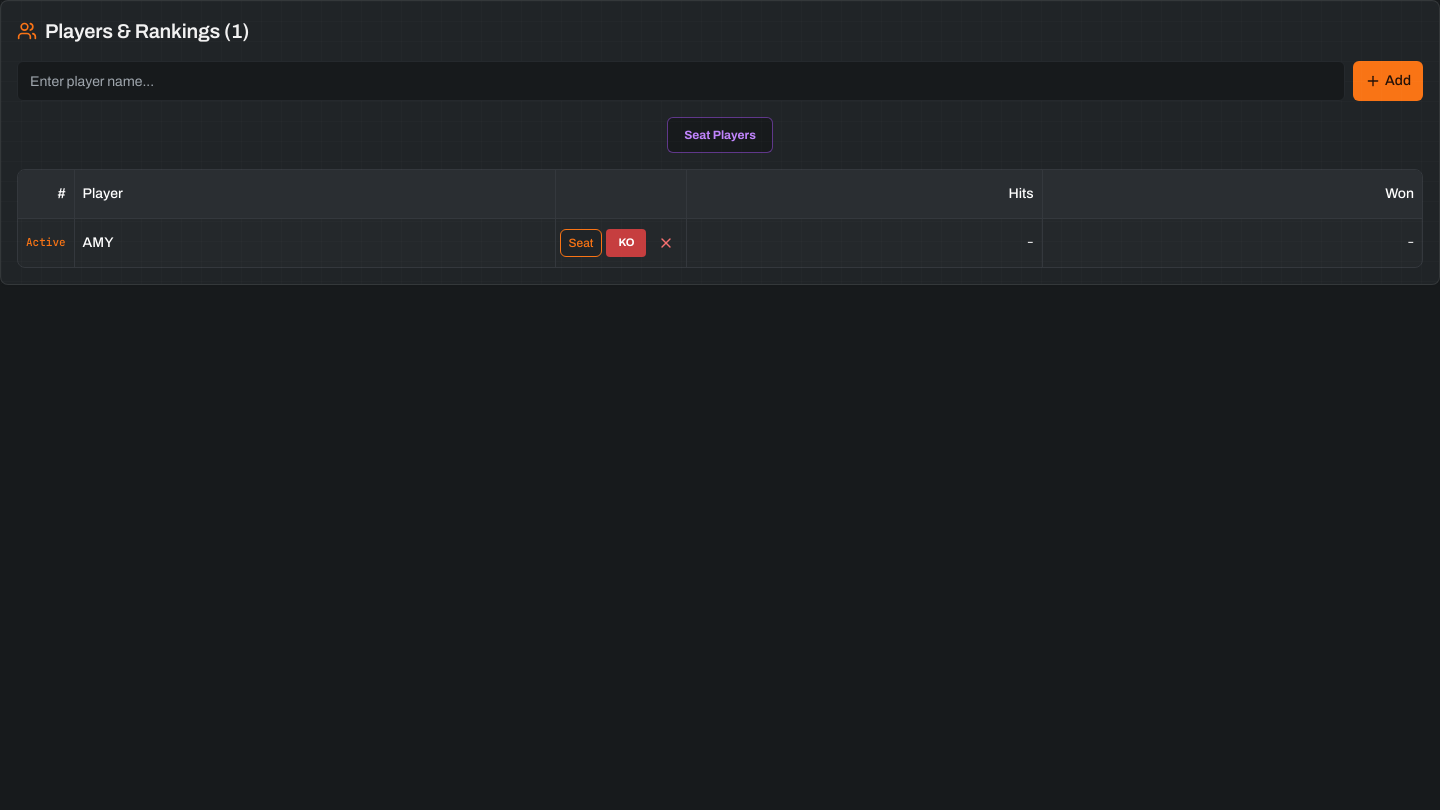
Scenario: PlayerSection › warns once late entry has closed, and adds only on confirm
Later steps or results of the test are not shown.
Type "Late" into the field with placeholder "Enter player name..." at (681, 81), box [17, 61, 1345, 101]
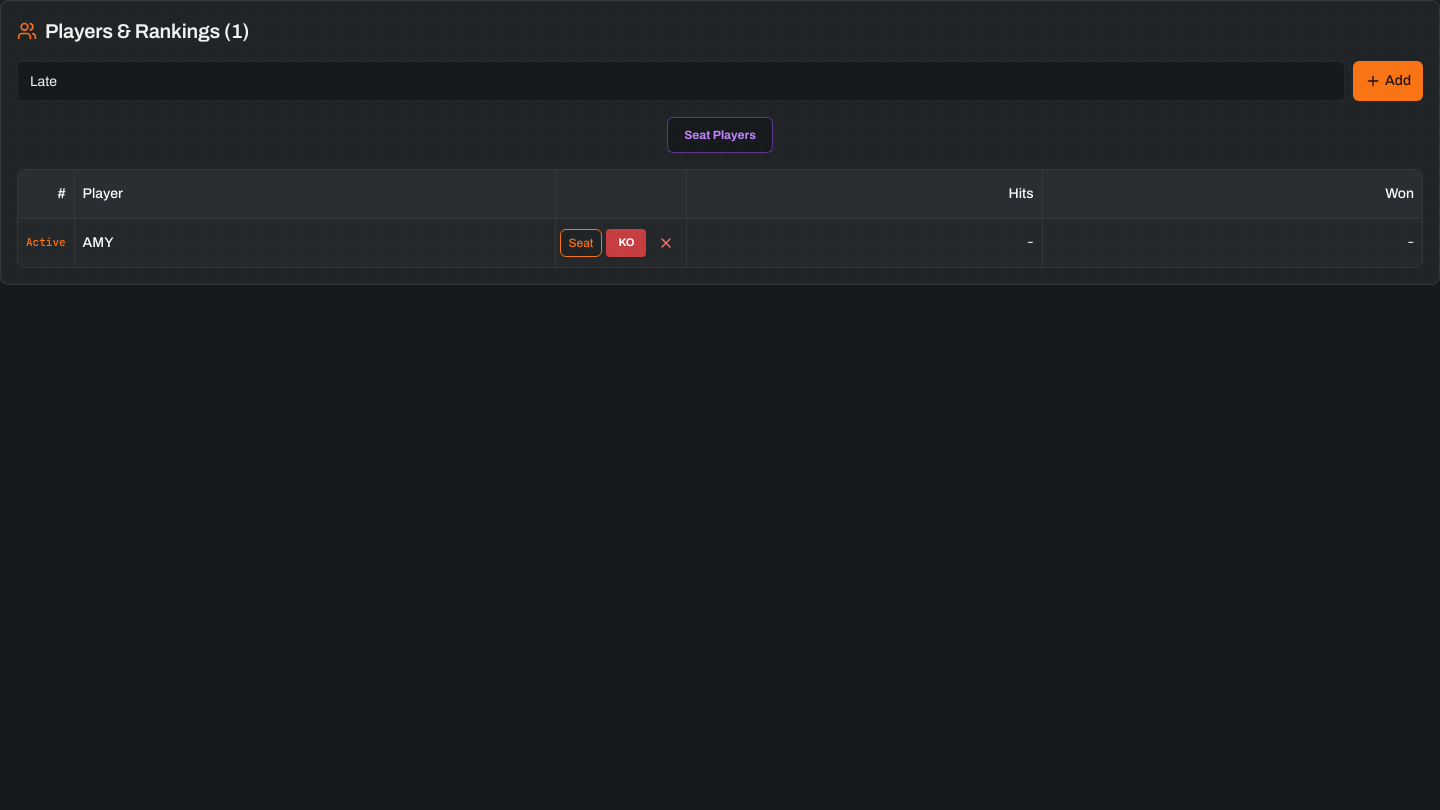
Click the button "Add" at (1388, 81), box [1353, 61, 1423, 101]
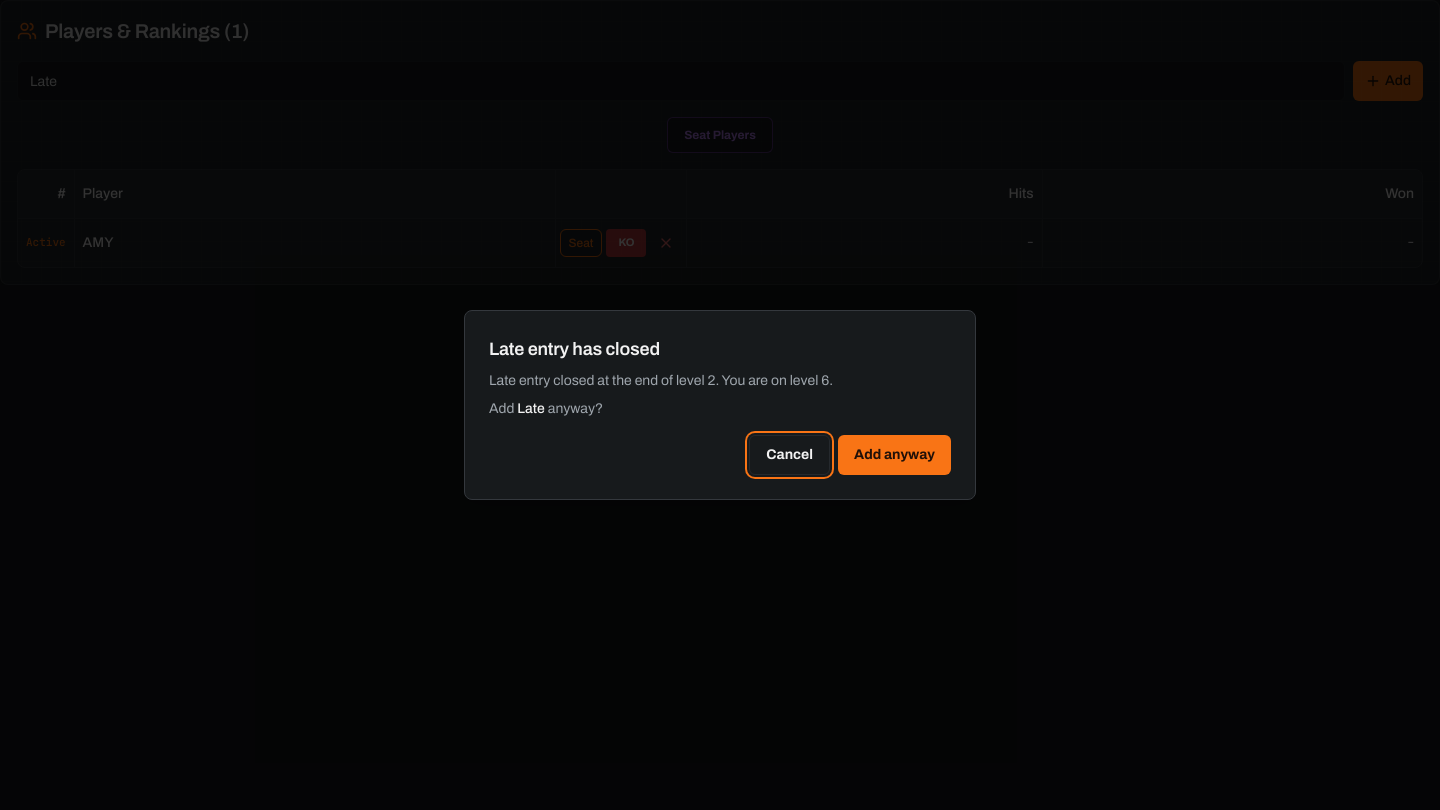
Check: the heading "Late entry has closed" is shown, box [489, 339, 660, 359]
